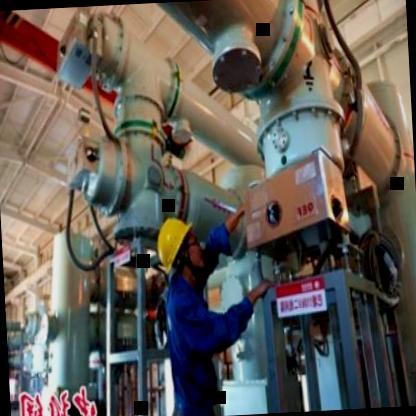helmet: (156, 212, 204, 284)
